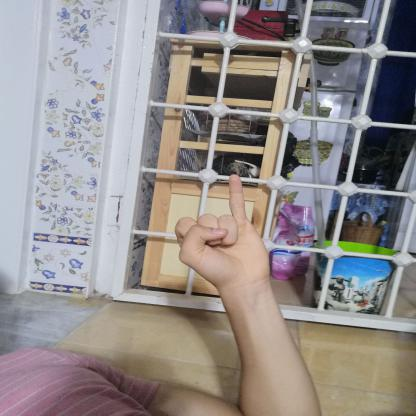MEEM: (156, 167, 288, 296)
